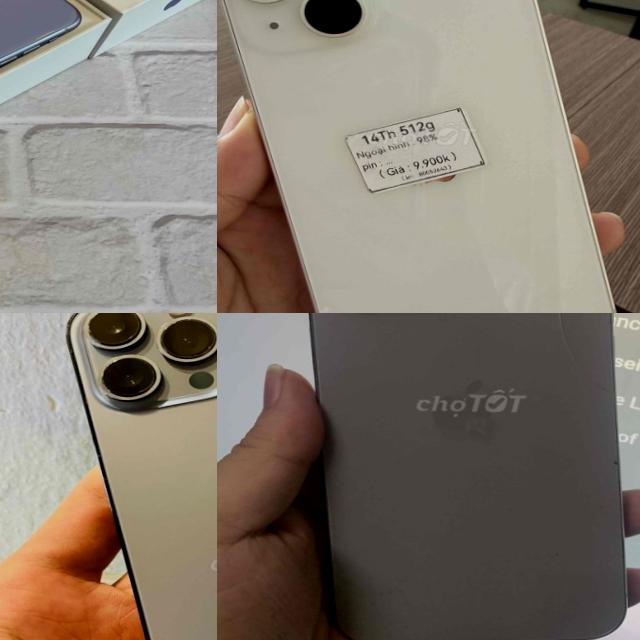physical_damage: (552, 343, 620, 406), (547, 313, 583, 344)
